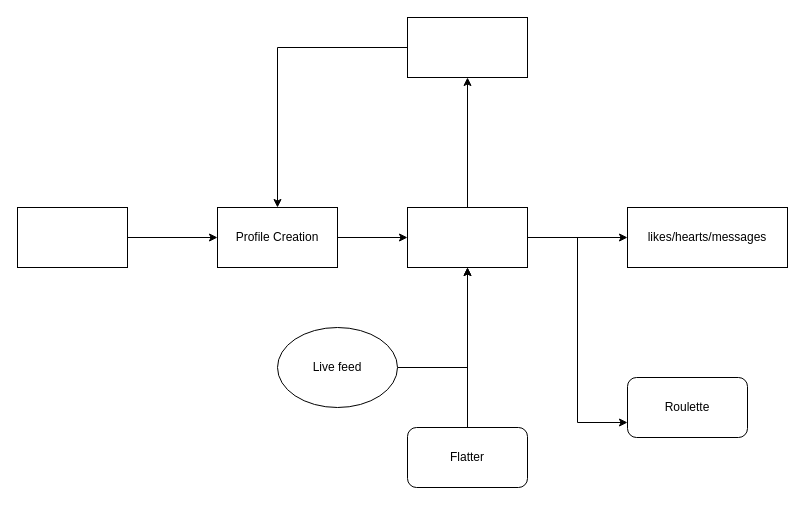
Some shapes in this 805 by 505 pixel diagram are drawn without their labels. Here are the shapes that lost their labels. From the top down, the centre of each, then its label:
the point at 467,47: Account settings
the point at 72,237: Auth
the point at 467,237: Discover screen
